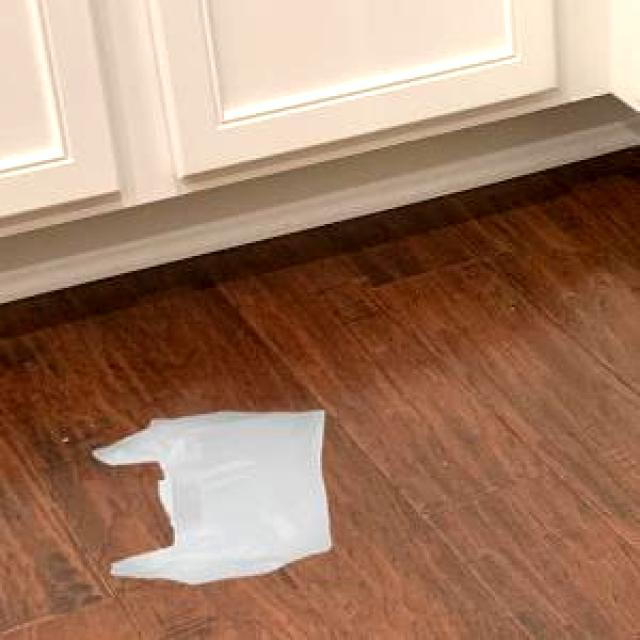Plastic_Bag: (90, 408, 328, 582)
